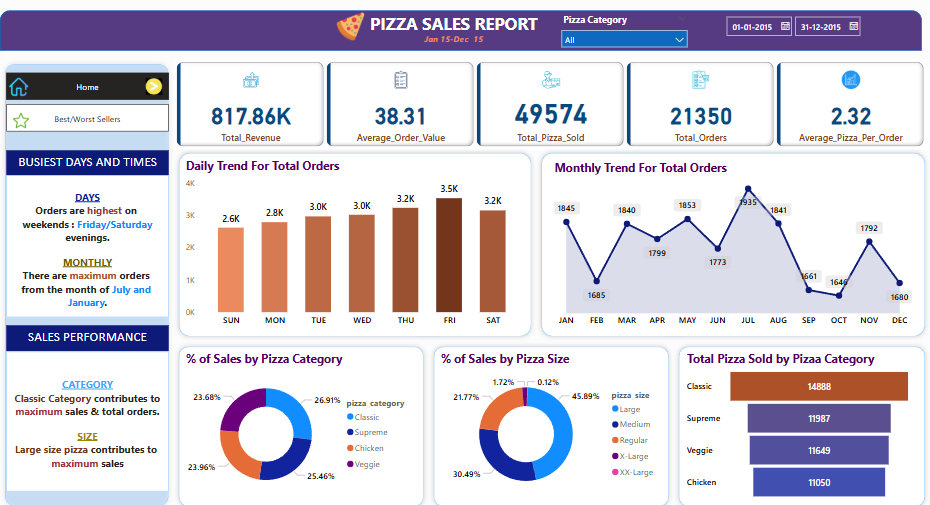

Layout of this report page (visuals, bound fields, positions):
{"tool":"powerbi","page":{"name":"Home","canvas":[1500,820],"ordinal":0},"visuals":[{"type":"cardVisual","fields":{"Data":["pizza_sales.Total_Revenue","pizza_sales.Average_Order_Value","pizza_sales.Total_Pizza_Sold","pizza_sales.Total_Orders","pizza_sales.Average_Pizza_Per_Order"]},"box":[277.7,95.1,1209.6,145.4],"z":0},{"type":"shape","box":[0,17.5,1475,65],"z":1000},{"type":"textbox","box":[564,16,324,68],"z":2000},{"type":"textbox","box":[670,50,112,44],"z":3000},{"type":"image","box":[528,16,66,56],"z":4000},{"type":"shape","box":[278,238,580,310],"z":5000},{"type":"columnChart","title":"Daily Trend For Total Orders","fields":{"Category":["pizza_sales.Order Day"],"Y":["pizza_sales.Total_Orders"]},"box":[292,253.9,552.2,279.3],"z":6000},{"type":"shape","box":[858,238,630,310],"z":7000},{"type":"areaChart","title":"Monthly Trend For Total Orders","fields":{"Category":["pizza_sales.Order Month"],"Y":["pizza_sales.Total_Orders"]},"box":[882,256,582,278],"z":8000},{"type":"shape","box":[278,548,408,272],"z":9000},{"type":"shape","box":[1078,548,410,272],"z":10000},{"type":"shape","box":[686,548,392,272],"z":11000},{"type":"donutChart","title":"% of Sales by Pizza Category","fields":{"Category":["pizza_sales.pizza_category"],"Y":["pizza_sales.Total_Revenue"]},"box":[292.6,562.9,376.5,244.2],"z":12000},{"type":"donutChart","title":"% of Sales by Pizza Size","fields":{"Category":["pizza_sales.pizza_size"],"Y":["pizza_sales.Total_Revenue"]},"box":[700.8,562.9,363.4,244.2],"z":13000},{"type":"funnel","title":"Total Pizza Sold by Pizaa Category","fields":{"Y":["pizza_sales.Total_Pizza_Sold"],"Category":["pizza_sales.pizza_category"]},"box":[1094.1,562.9,369,244.2],"z":14000},{"type":"shape","box":[0,95.2,277.7,723.5],"z":15000},{"type":"textbox","box":[9.5,241.2,260.2,41.3],"z":16000},{"type":"textbox","box":[9.5,282.4,260.2,226.9],"z":17000},{"type":"textbox","box":[9.5,522,260.2,41.3],"z":18000},{"type":"textbox","box":[10,564,260,224],"z":19000},{"type":"slicer","fields":{"Values":["pizza_sales.pizza_category"]},"box":[888,18,222,66],"z":19001},{"type":"slicer","fields":{"Values":["pizza_sales.order_date"]},"box":[1150,17.5,252.5,67.5],"z":19002},{"type":"pageNavigator","box":[10,118,260,43],"z":19003},{"type":"pageNavigator","box":[10,168,260,44],"z":19004},{"type":"image","box":[221,122,49,36],"z":19005},{"type":"image","box":[10,117,40,45],"z":19006},{"type":"image","box":[15,175,35,37],"z":19007}]}

Visuals, with their boxes in screenshot pixels (x1, y1, x2, y2), scaled from the page's 1500x820 canvas onto the 930x505 screenshot:
cardVisual - pizza_sales.Total_Revenue x pizza_sales.Average_Order_Value: locate(172, 59, 922, 148)
shape: locate(0, 11, 914, 51)
textbox: locate(350, 10, 551, 52)
textbox: locate(415, 31, 485, 58)
image: locate(327, 10, 368, 44)
shape: locate(172, 147, 532, 337)
"Daily Trend For Total Orders" columnChart: locate(181, 156, 523, 328)
shape: locate(532, 147, 923, 337)
"Monthly Trend For Total Orders" areaChart: locate(547, 158, 908, 329)
shape: locate(172, 337, 425, 504)
shape: locate(668, 337, 923, 504)
shape: locate(425, 337, 668, 504)
"% of Sales by Pizza Category" donutChart: locate(181, 347, 415, 497)
"% of Sales by Pizza Size" donutChart: locate(434, 347, 660, 497)
"Total Pizza Sold by Pizaa Category" funnel: locate(678, 347, 907, 497)
shape: locate(0, 59, 172, 504)
textbox: locate(6, 149, 167, 174)
textbox: locate(6, 174, 167, 314)
textbox: locate(6, 321, 167, 347)
textbox: locate(6, 347, 167, 485)
slicer - pizza_sales.pizza_category: locate(551, 11, 688, 52)
slicer - pizza_sales.order_date: locate(713, 11, 870, 52)
pageNavigator: locate(6, 73, 167, 99)
pageNavigator: locate(6, 103, 167, 131)
image: locate(137, 75, 167, 97)
image: locate(6, 72, 31, 100)
image: locate(9, 108, 31, 131)
